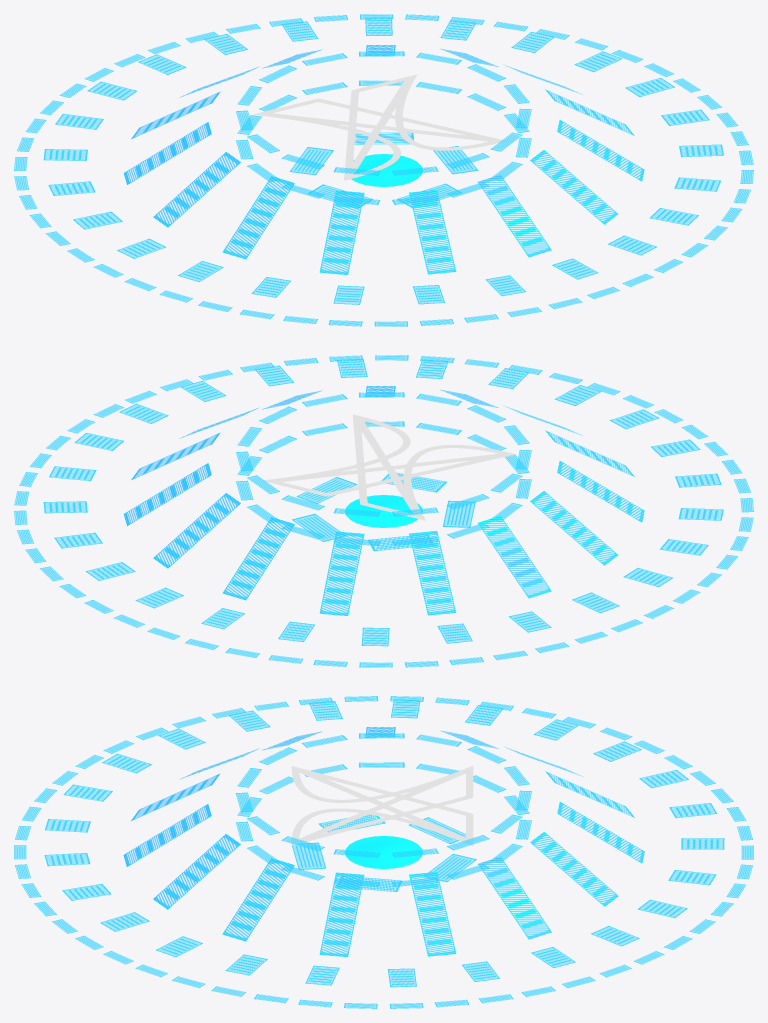
Rendered from recticle.glb.
3 views of the same model, one above another, from view 1: azimuth 30°, elevation 25°; view 2: azimuth 150°, elevation 25°; view 3: azimuth 270°, elevation 25° (orthographic).
Visible parts, largest first — view 1: MASH2_ReproMesh4, MASH2_ReproMesh2, MASH2_ReproMesh8, Curve, MASH2_ReproMesh6, MASH2_ReproMesh7, MASH2_ReproMesh3, pDisc2; view 2: MASH2_ReproMesh4, MASH2_ReproMesh2, MASH2_ReproMesh8, Curve, MASH2_ReproMesh6, MASH2_ReproMesh7, MASH2_ReproMesh3, pDisc2; view 3: MASH2_ReproMesh4, MASH2_ReproMesh2, MASH2_ReproMesh8, Curve, MASH2_ReproMesh6, MASH2_ReproMesh7, MASH2_ReproMesh3, pDisc2.
Boxes of the visible parts, bbox=[...] form: MASH2_ReproMesh4: bbox=[123, 45, 644, 274]; MASH2_ReproMesh2: bbox=[43, 17, 723, 304]; MASH2_ReproMesh8: bbox=[14, 14, 753, 326]; Curve: bbox=[253, 74, 505, 180]; MASH2_ReproMesh6: bbox=[236, 51, 531, 175]; MASH2_ReproMesh7: bbox=[236, 80, 531, 204]; MASH2_ReproMesh3: bbox=[289, 132, 478, 208]; pDisc2: bbox=[351, 154, 422, 186]; MASH2_ReproMesh4: bbox=[123, 386, 644, 615]; MASH2_ReproMesh2: bbox=[43, 358, 723, 646]; MASH2_ReproMesh8: bbox=[14, 355, 753, 667]; Curve: bbox=[262, 414, 515, 520]; MASH2_ReproMesh6: bbox=[236, 392, 531, 516]; MASH2_ReproMesh7: bbox=[236, 421, 531, 545]; MASH2_ReproMesh3: bbox=[292, 473, 475, 551]; pDisc2: bbox=[345, 495, 422, 527]; MASH2_ReproMesh4: bbox=[123, 727, 644, 957]; MASH2_ReproMesh2: bbox=[44, 699, 724, 987]; MASH2_ReproMesh8: bbox=[14, 696, 753, 1008]; Curve: bbox=[291, 766, 473, 845]; MASH2_ReproMesh6: bbox=[235, 733, 531, 857]; MASH2_ReproMesh7: bbox=[236, 762, 531, 886]; MASH2_ReproMesh3: bbox=[292, 814, 476, 891]; pDisc2: bbox=[345, 836, 422, 868].
Size of the model in its own units: 21 by 1.79 by 20.98.
2 materials, 1 textured.
